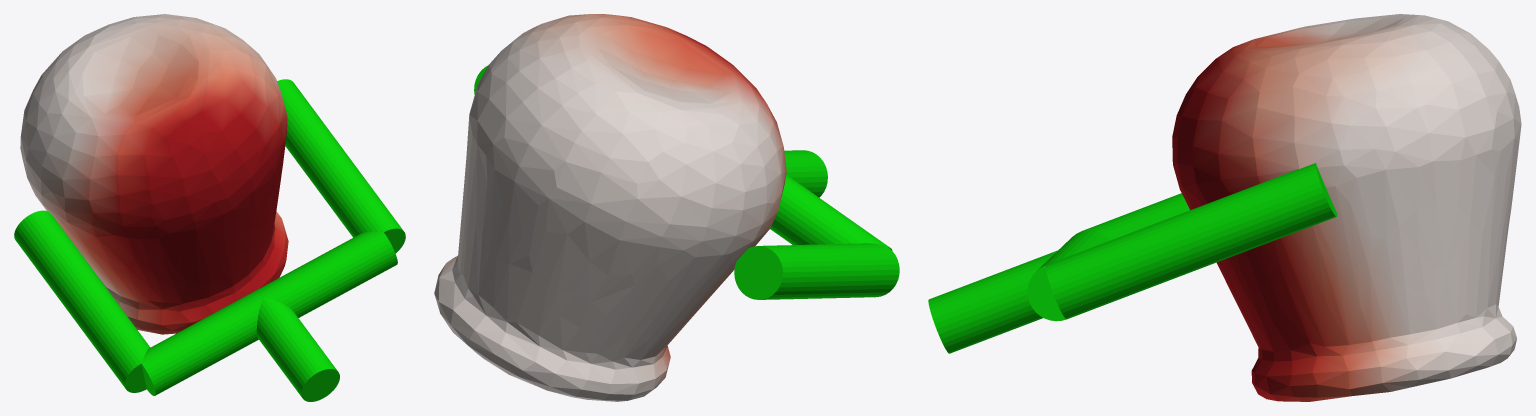
File: round_000_trial_001.obj
3 views of the same model, side by side, from view 1: azimuth 30°, elevation 25°; view 2: azimuth 150°, elevation 25°; view 3: azimuth 270°, elevation 25° (orthographic). The views are drawn at different scales.
Visible parts, largest first — view 1: geometry_0, geometry_1; view 2: geometry_0, geometry_1; view 3: geometry_0, geometry_1.
Boxes of the visible parts, x1,y1,x2,y2 form: geometry_0: (20,14,288,334); geometry_1: (14,79,405,401); geometry_0: (434,14,786,401); geometry_1: (474,65,899,299); geometry_0: (1172,14,1521,401); geometry_1: (928,163,1337,353).
Size of the model in its own units: 0.071 by 0.07 by 0.1019.
